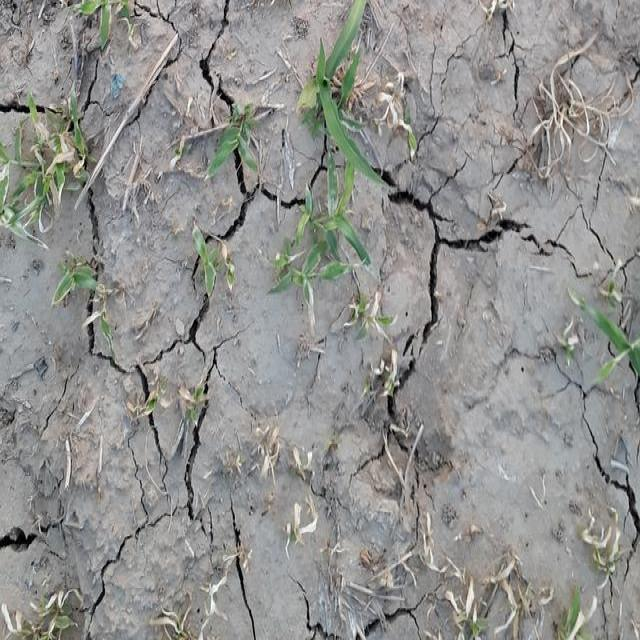weed: (296, 1, 380, 318), (0, 86, 94, 230), (208, 98, 266, 172), (49, 247, 114, 313), (184, 218, 224, 302)
